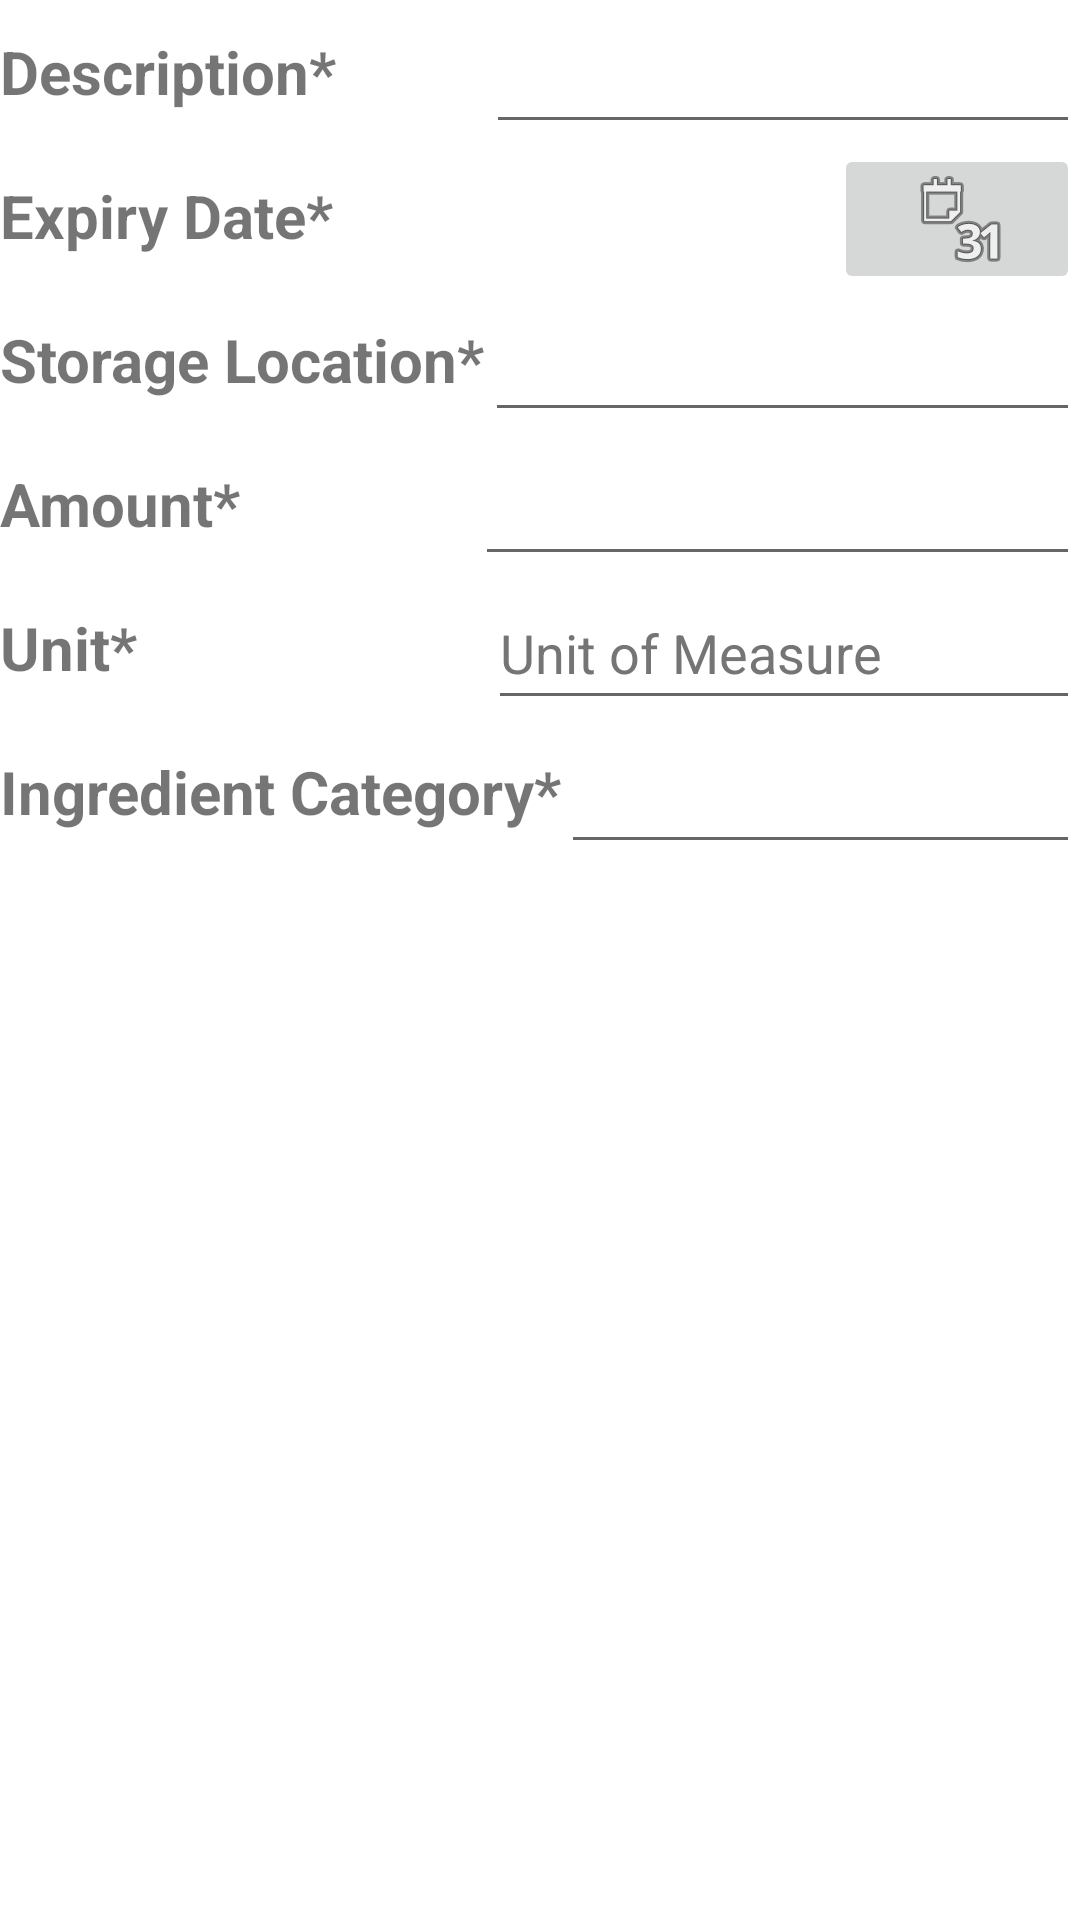

Point at icon controls on the screen. Image size 1080w x 1920h, points as (x,y).
month: (957,219)
